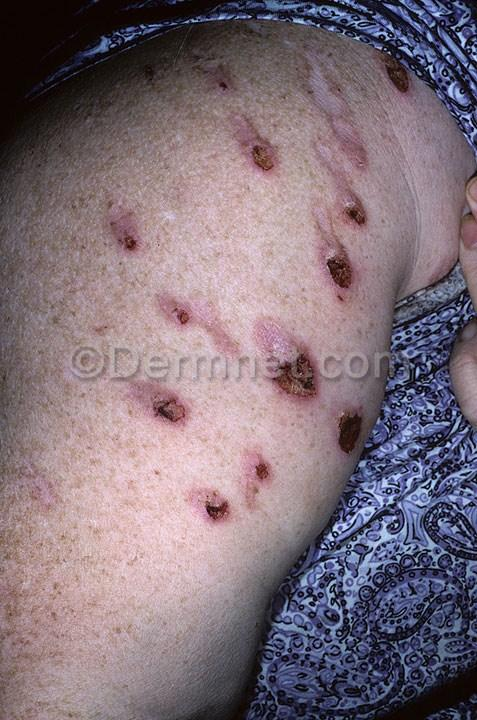Eczema: (188, 35, 454, 228), (61, 163, 329, 348), (82, 375, 267, 555), (248, 354, 390, 484), (286, 194, 387, 341)
